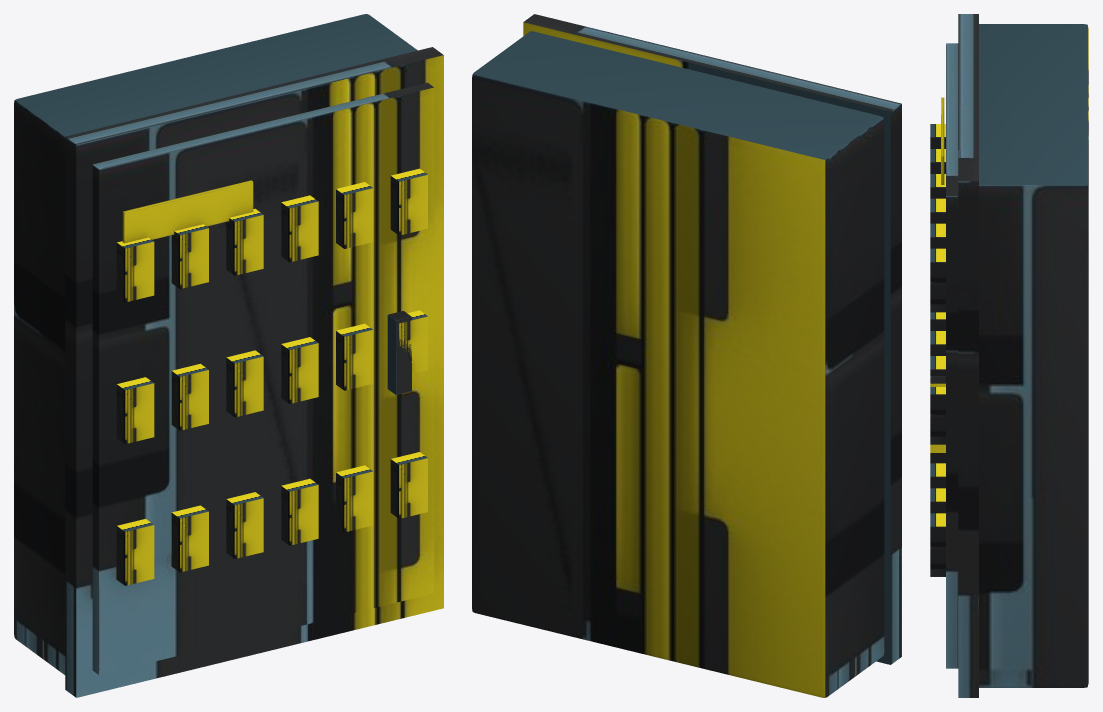
The model's file is PR_electrical_panel.glb.
3 views of the same model, side by side, from view 1: azimuth 30°, elevation 25°; view 2: azimuth 150°, elevation 25°; view 3: azimuth 270°, elevation 25° (orthographic). The views are drawn at different scales.
Parts seen in each view (by area): view 1: PR_electrical_panel; view 2: PR_electrical_panel; view 3: PR_electrical_panel.
Boxes of the visible parts, x1=… form: PR_electrical_panel: x1=14, y1=14, x2=443, y2=697; PR_electrical_panel: x1=472, y1=14, x2=901, y2=697; PR_electrical_panel: x1=930, y1=14, x2=1088, y2=697.
Size of the model in its own units: 1.14 by 1.64 by 0.455.
1 material, 1 textured.
